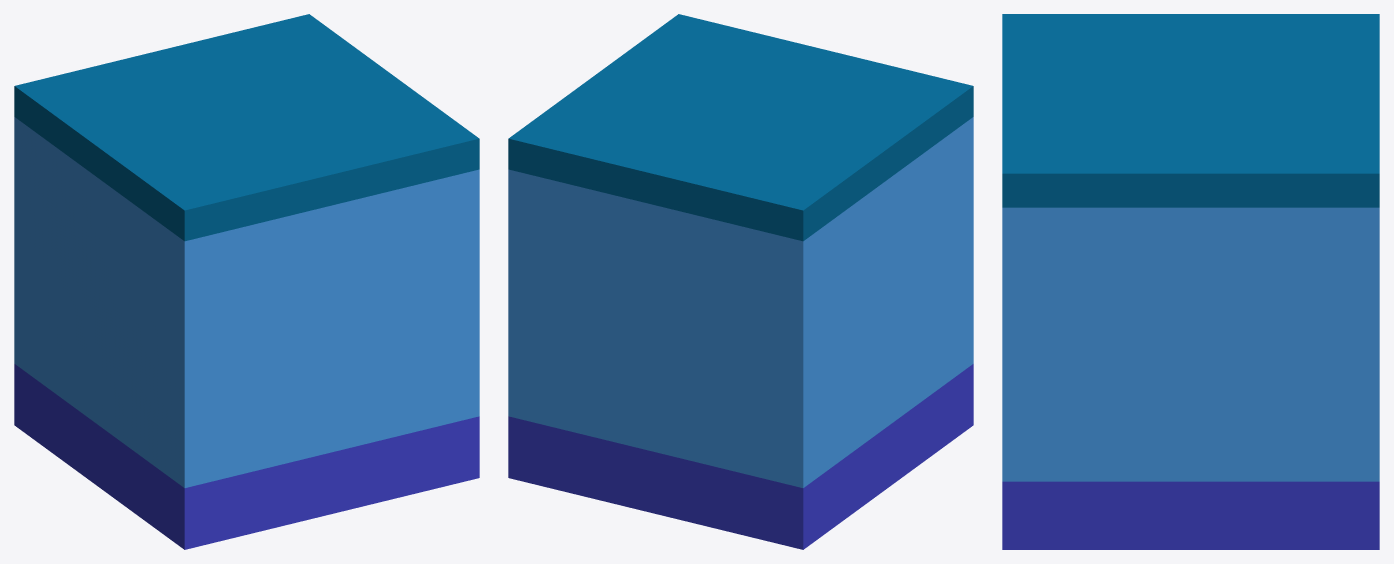
File: Agua.obj
The picture shows the model from 3 angles, left to right: view 1: azimuth 30°, elevation 25°; view 2: azimuth 150°, elevation 25°; view 3: azimuth 270°, elevation 25°; orthographic projection. The views are drawn at different scales.
Parts seen in each view (by area): view 1: mergedBlocks; view 2: mergedBlocks; view 3: mergedBlocks.
Boxes of the visible parts, bbox=[...] form: mergedBlocks: bbox=[14, 14, 479, 549]; mergedBlocks: bbox=[508, 14, 973, 549]; mergedBlocks: bbox=[1002, 14, 1379, 549].
Size of the model in its own units: 1 by 1.1 by 1.
